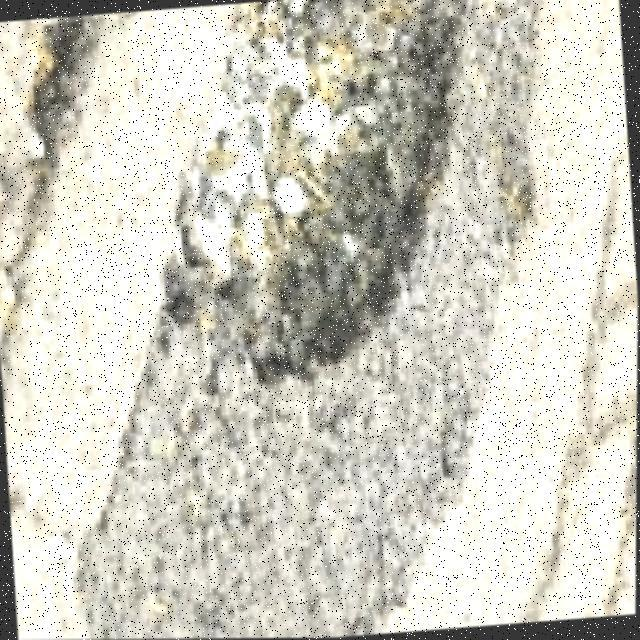pothole: (137, 0, 496, 399)
